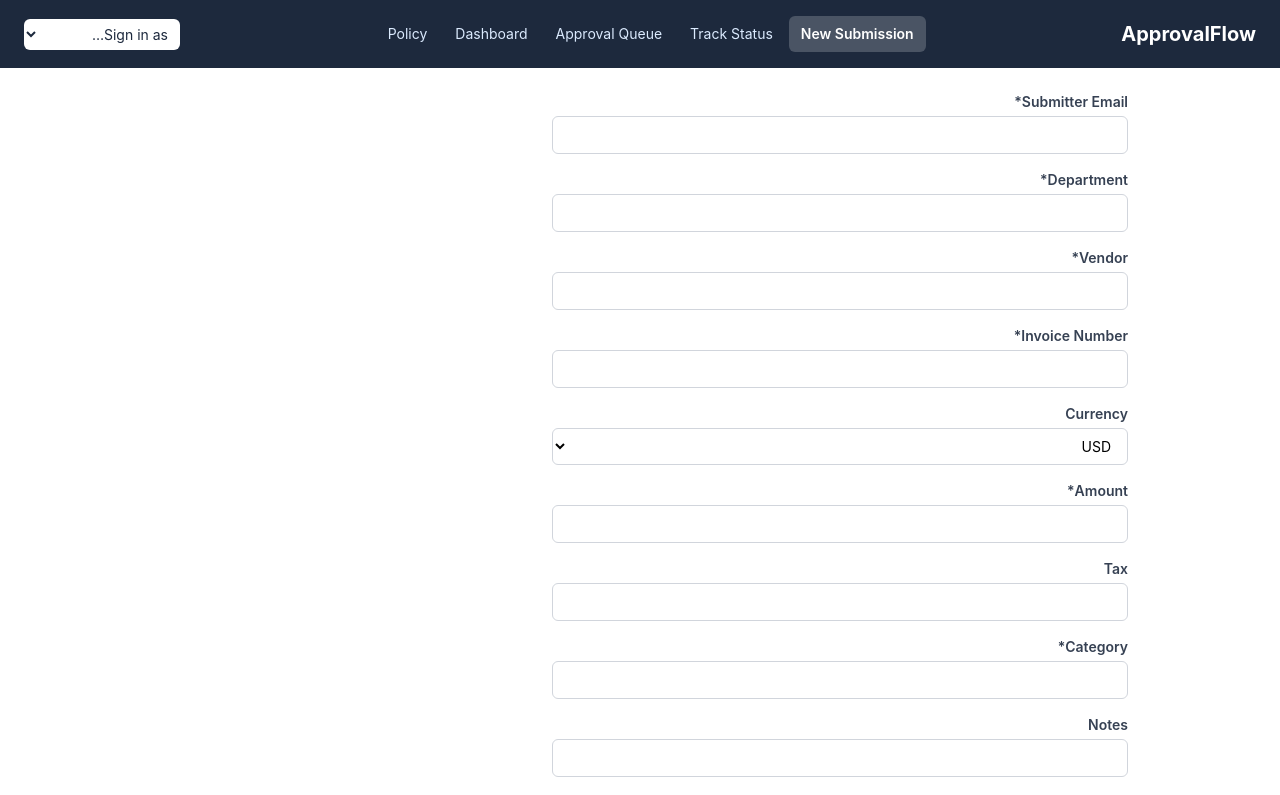
App › switches to the Policy tab
The width and height of the screenshot is (1280, 795).
Click the button "Policy" at (408, 34), box x1=376 y1=16 x2=439 y2=52
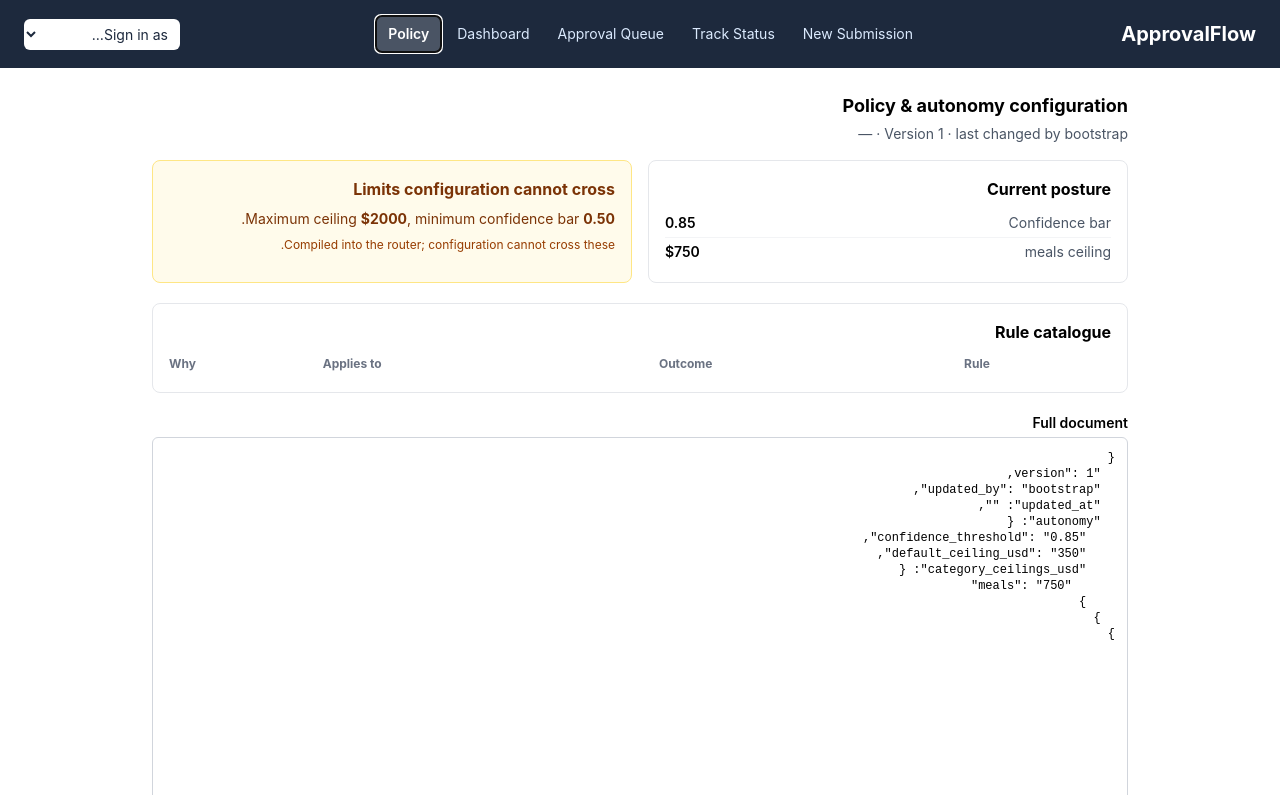
Result: the heading "Current posture" is shown at x1=987 y1=179 x2=1111 y2=199
